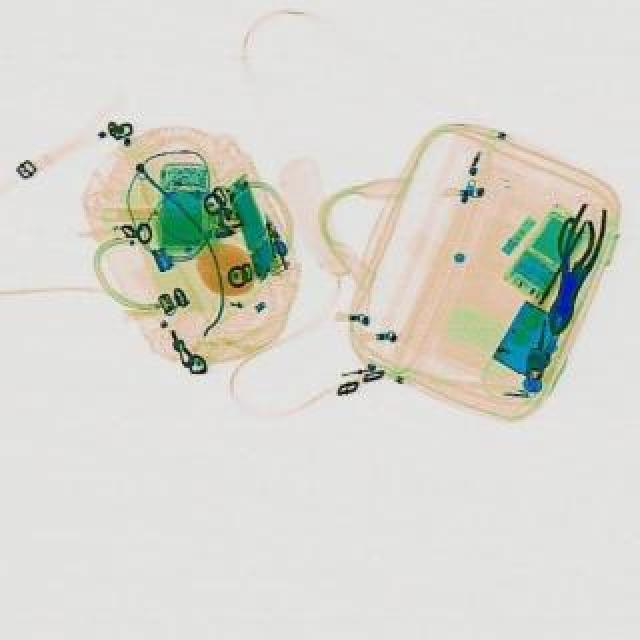wrench: (534, 206, 612, 342), (536, 218, 602, 306)
